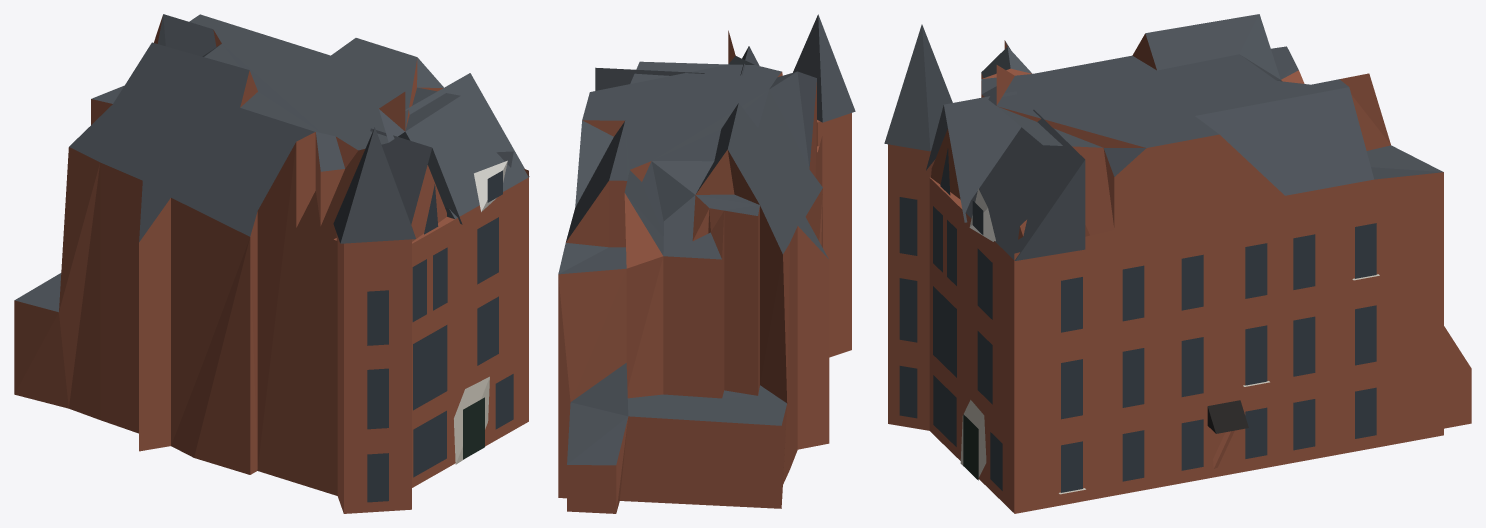
File: diamant-museum.lod2.glb
3 renders of one model, left to right at view 1: azimuth 30°, elevation 25°; view 2: azimuth 150°, elevation 25°; view 3: azimuth 270°, elevation 25°, orthographic. The views are drawn at different scales.
Parts seen in each view (by area): view 1: lod2; view 2: lod2; view 3: lod2.
Part boxes in pixels (bbox=[...]): lod2: bbox=[14, 14, 529, 513]; lod2: bbox=[558, 14, 855, 513]; lod2: bbox=[884, 14, 1471, 513].
Bounding box in the file's own units: 18 × 18 × 24.59.
